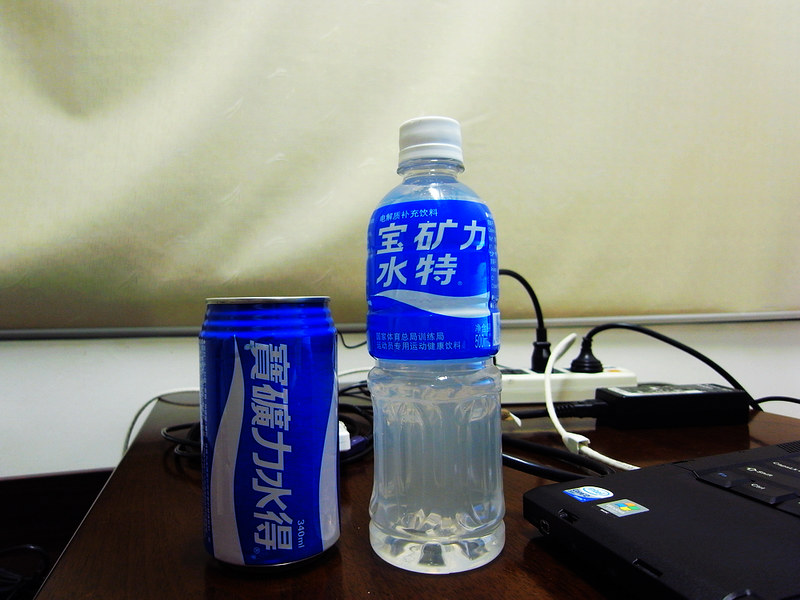POCARI SWEAT: (367, 114, 504, 568)
